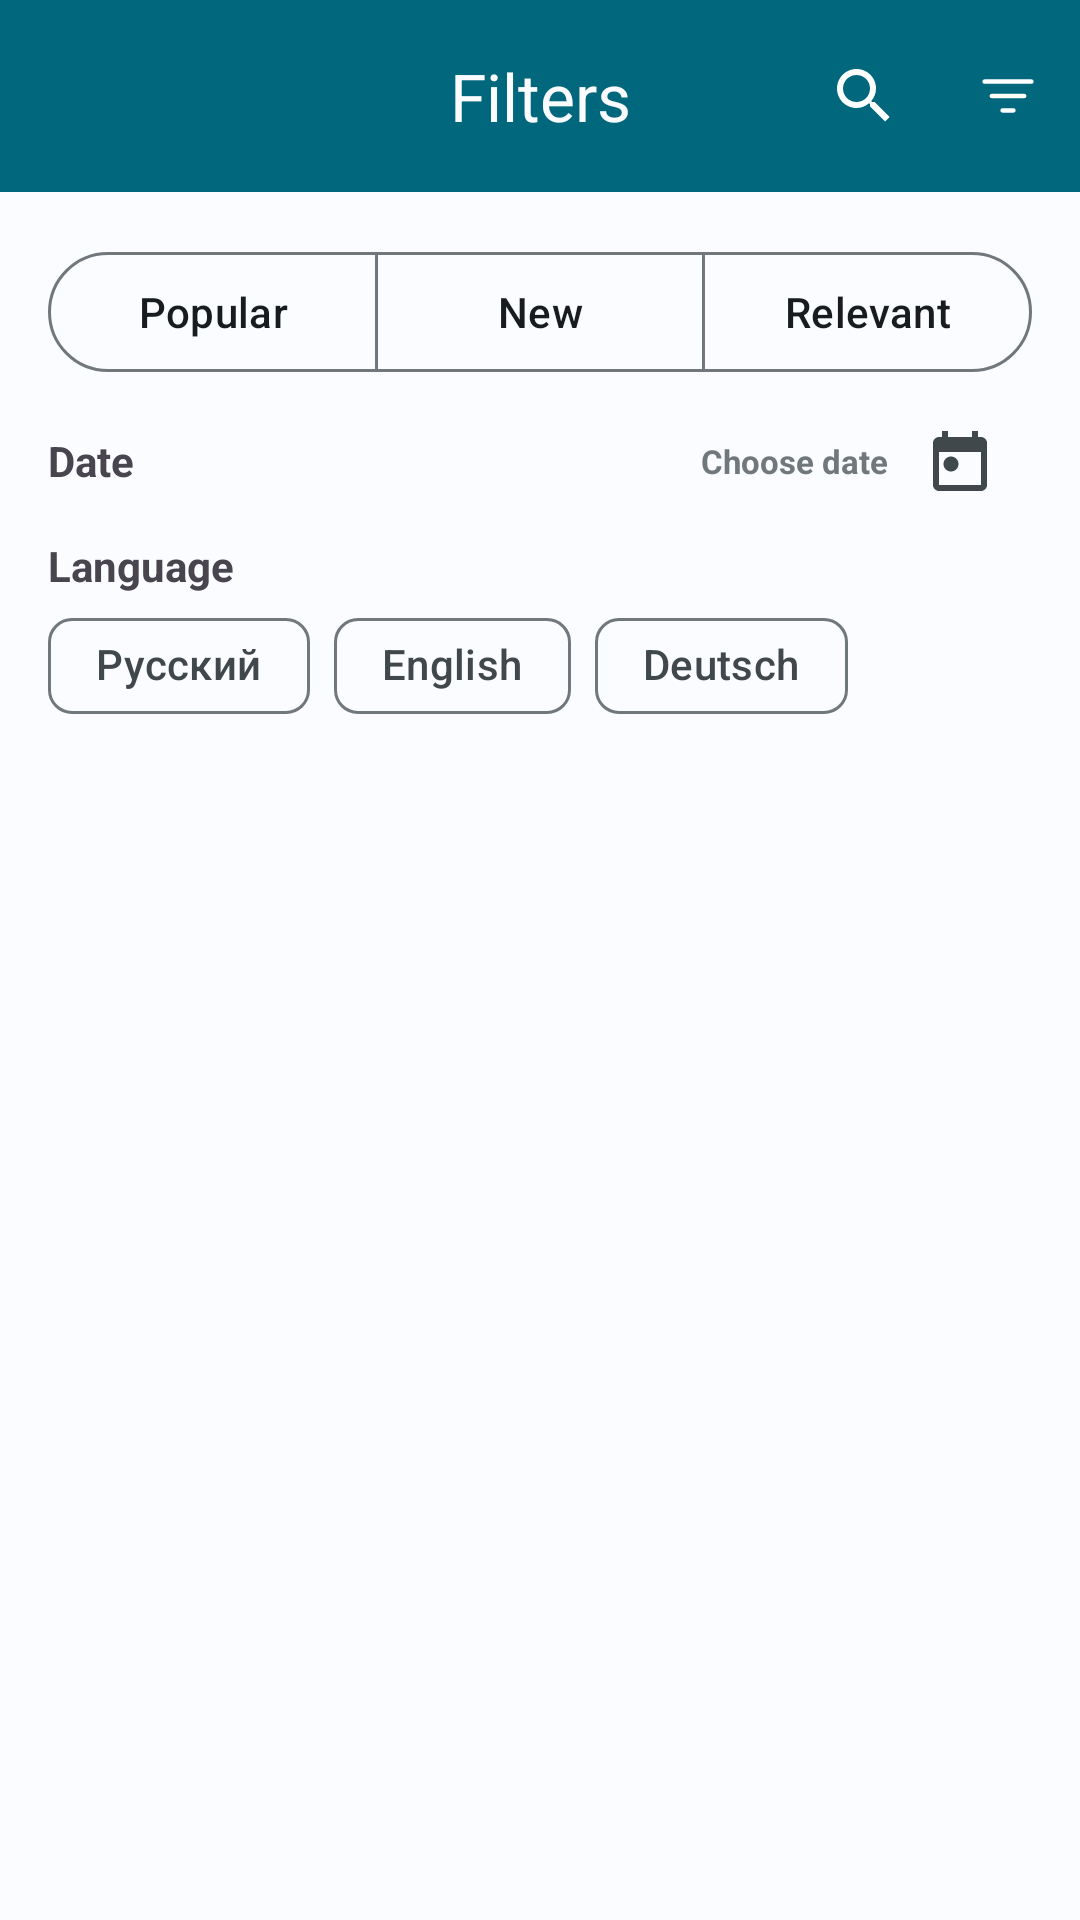

Icon click points for this 1080 x 1920 phone screenshot, format (x,y):
calendar: (960,461)
